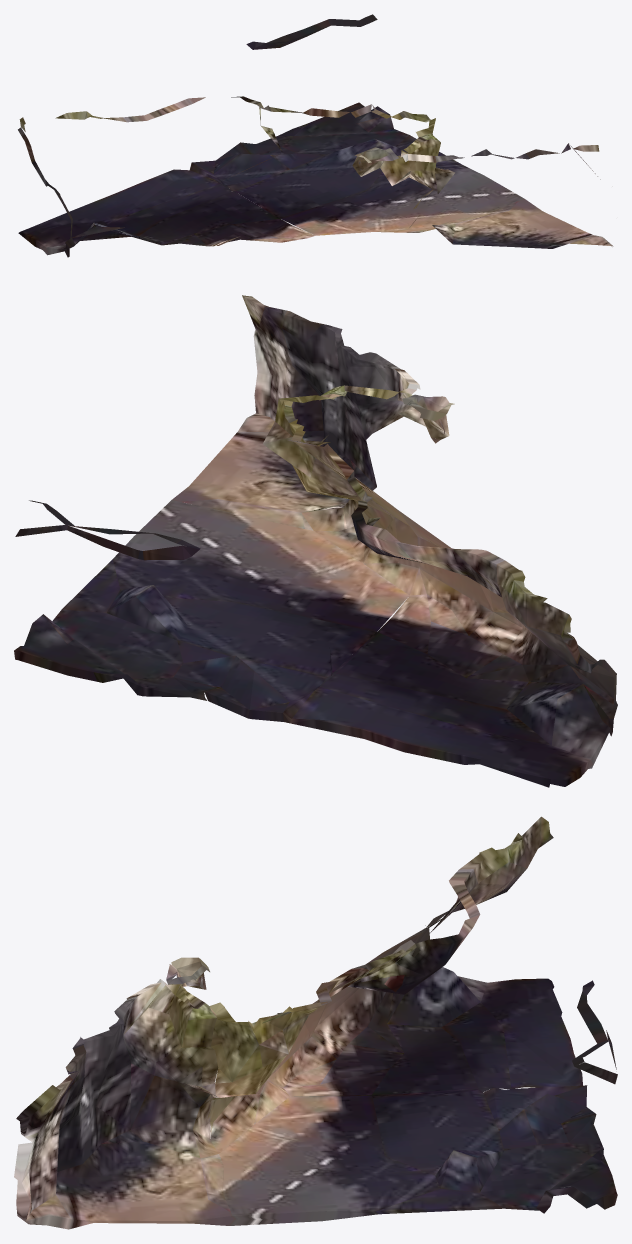
The picture shows the model from 3 angles, top to bottom: view 1: azimuth 30°, elevation 25°; view 2: azimuth 150°, elevation 25°; view 3: azimuth 270°, elevation 25°; orthographic projection. The views are drawn at different scales.
Visible parts, largest first — view 1: Mesh_0; view 2: Mesh_0; view 3: Mesh_0.
Part boxes in pixels (x1=…): Mesh_0: x1=18, y1=14, x2=613, y2=257; Mesh_0: x1=14, y1=295, x2=617, y2=787; Mesh_0: x1=14, y1=816, x2=617, y2=1229.
Size of the model in its own units: 32.81 by 9.8 by 29.83.
Materials: 1 (1 with a texture image).
